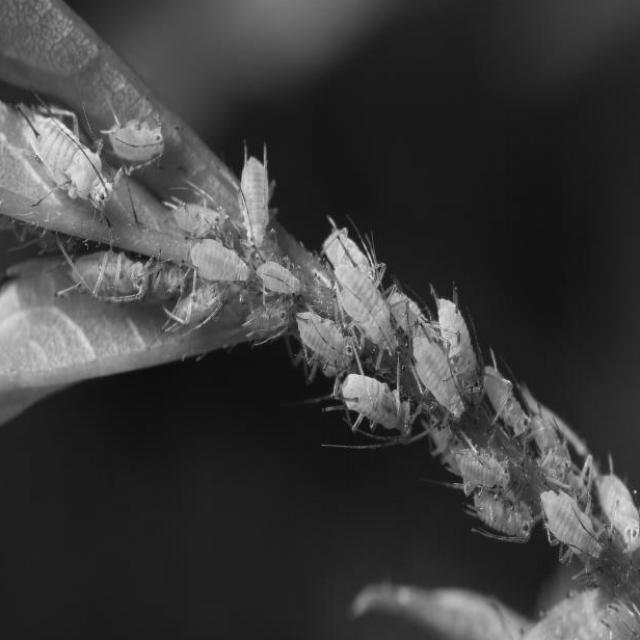Aphids: (0, 65, 640, 585)
